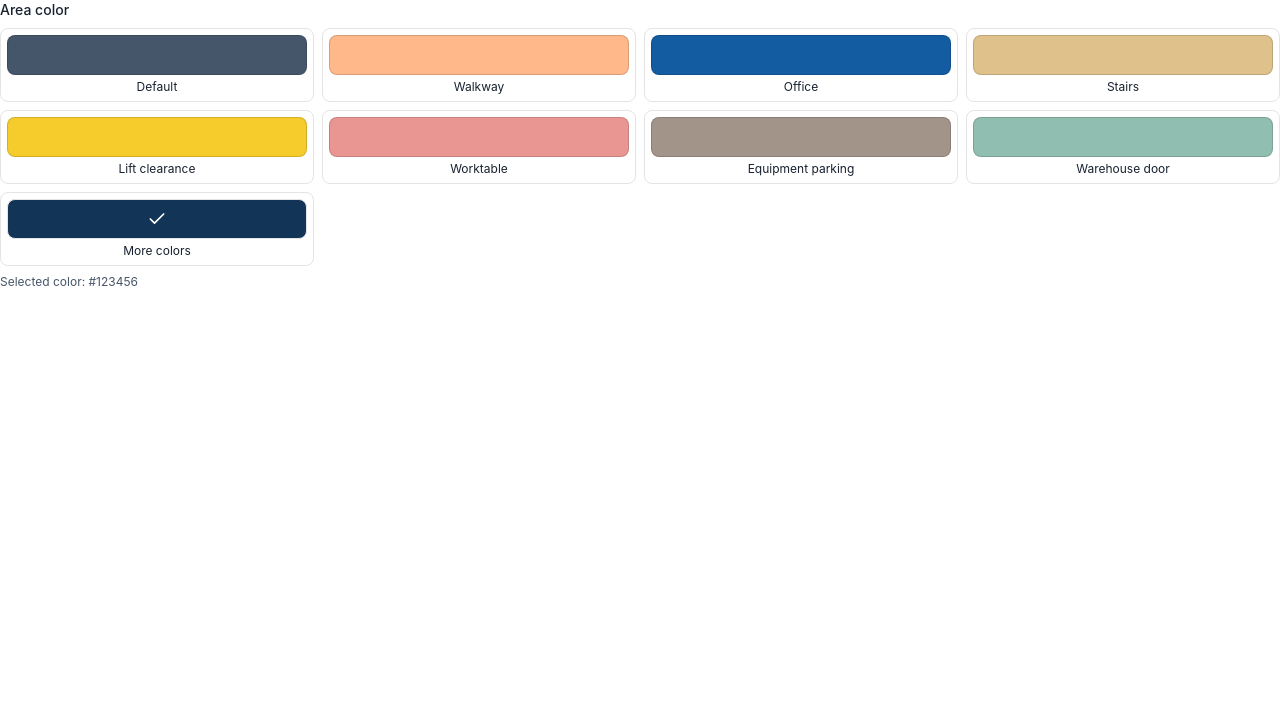
Test: AreaColorPicker › applies and normalizes custom input a1b2c3 only on Apply
Click the button "More colors".
click(157, 229)  # box [0,192,314,266]
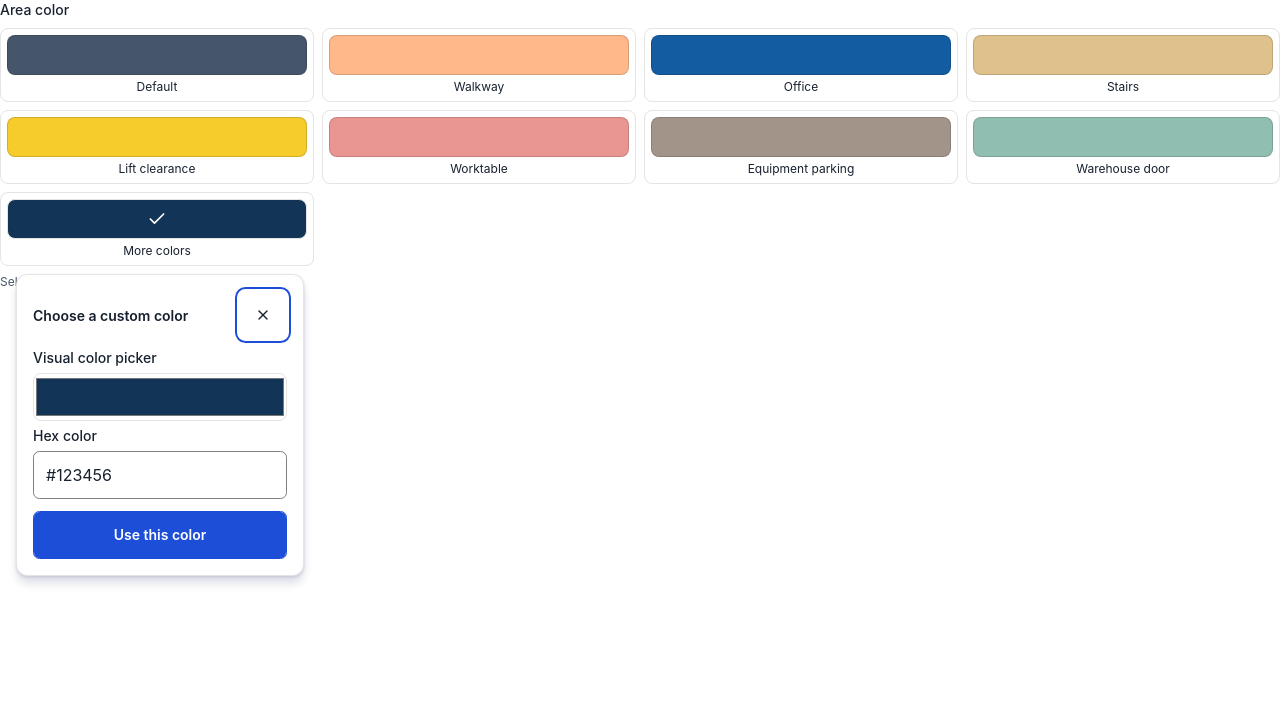
Result: the field labelled "Hex color" holds "#123456"
Replace the text in the field labelled "Hex color" with "a1b2c3" at (160, 475), box [33,451,287,499]
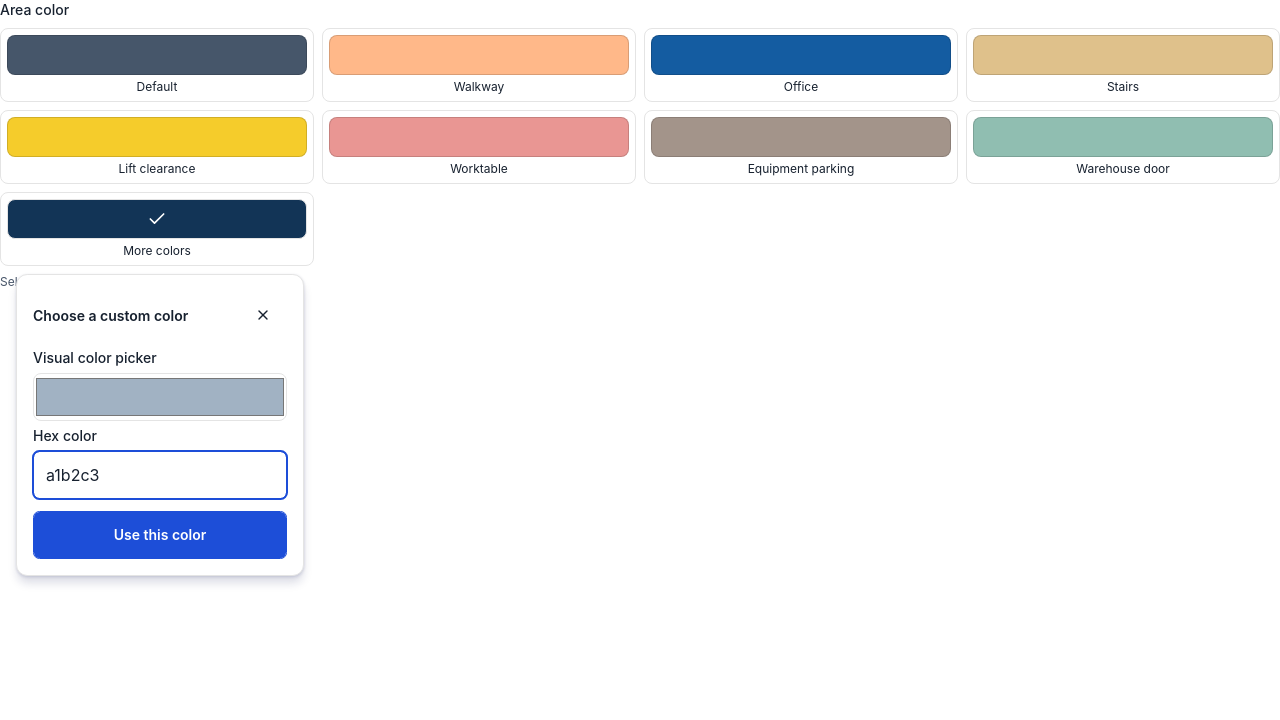
Click the button "Use this color".
click(160, 535)  # box [33,511,287,559]
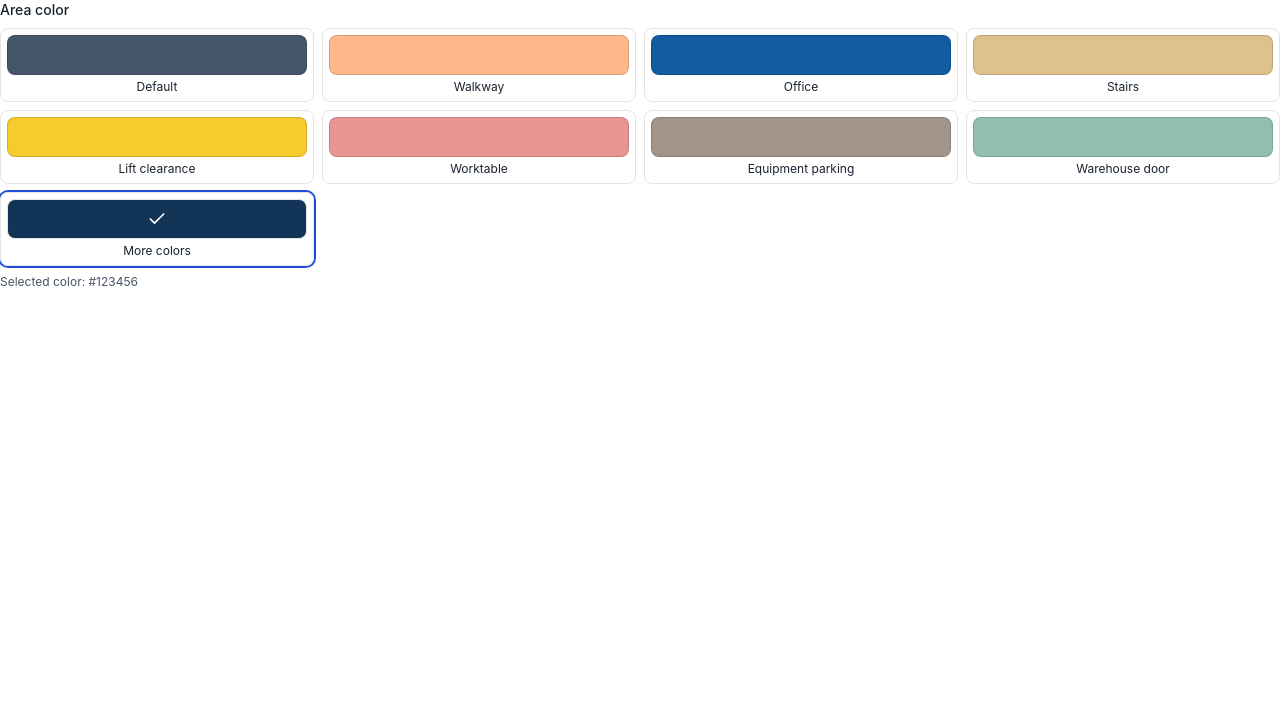
Result: the dialog is gone
